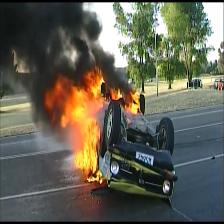fire: (34, 59, 162, 205)
smoke: (2, 6, 141, 101)
